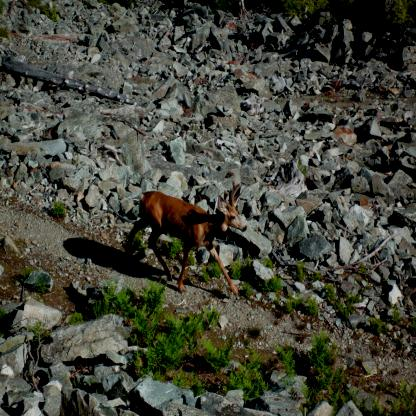Deer: (124, 182, 246, 296)
